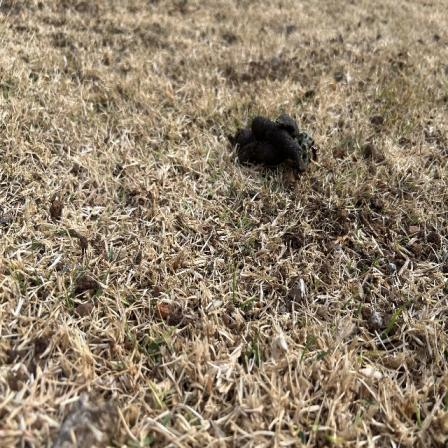dog-poop: (231, 109, 317, 176)
